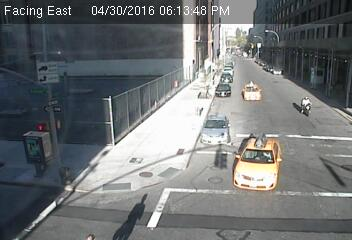neg: (152, 79, 183, 121), (202, 68, 233, 108), (240, 76, 270, 116), (22, 125, 51, 164), (159, 146, 187, 183), (82, 98, 110, 135), (252, 128, 278, 163), (119, 86, 143, 119), (109, 160, 130, 189)
